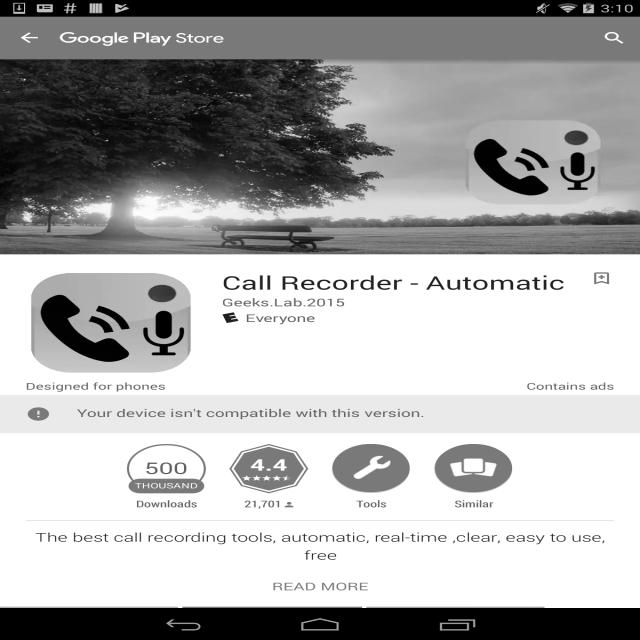Button: (222, 444, 316, 510), (324, 444, 418, 510), (426, 444, 520, 510)
ImageButton: (0, 17, 60, 59)
ImageView: (0, 59, 640, 254), (26, 270, 196, 377), (182, 606, 362, 640), (0, 606, 178, 640), (366, 606, 544, 640), (332, 444, 411, 493), (434, 444, 513, 493), (60, 30, 224, 46), (589, 270, 614, 286), (26, 406, 51, 422), (222, 312, 239, 323), (285, 502, 293, 507)
TextView: (0, 529, 640, 575), (0, 575, 640, 593), (222, 270, 589, 295), (77, 406, 424, 422), (222, 295, 345, 309), (25, 380, 166, 392), (589, 22, 640, 54), (324, 493, 418, 510), (426, 493, 520, 510), (120, 493, 213, 510), (526, 380, 614, 392), (245, 311, 316, 325), (144, 459, 188, 478), (250, 454, 288, 475), (244, 493, 282, 510), (133, 482, 200, 490)
